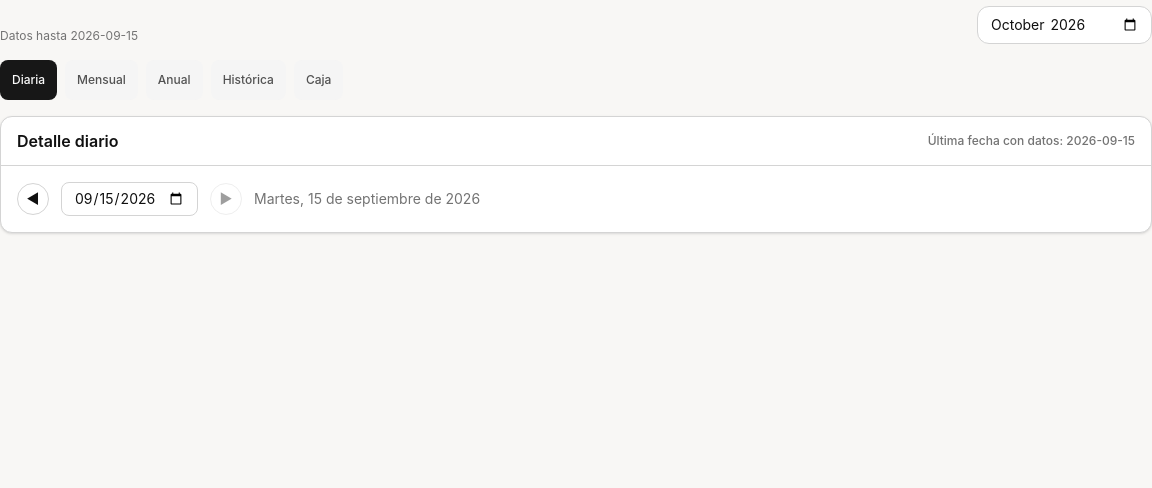
Test: VentasView forecast chart › warns when the current-month vintage could not be saved
Click the button "Mensual": (102, 80) [65,60,138,100]
(page scrolled)
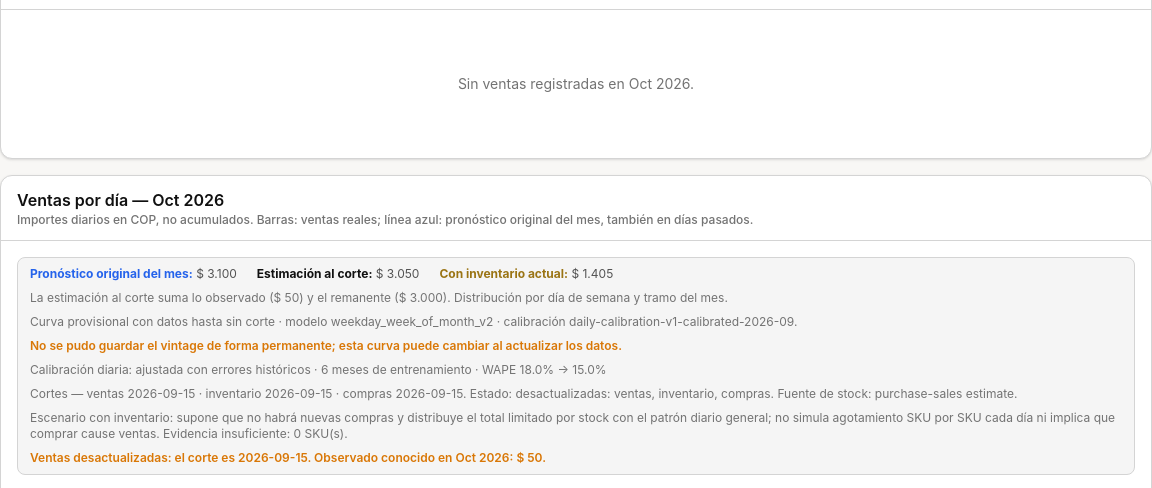
Expected: the text "No se pudo guardar el vintage de forma permanente" is shown, [30,338,622,353]
